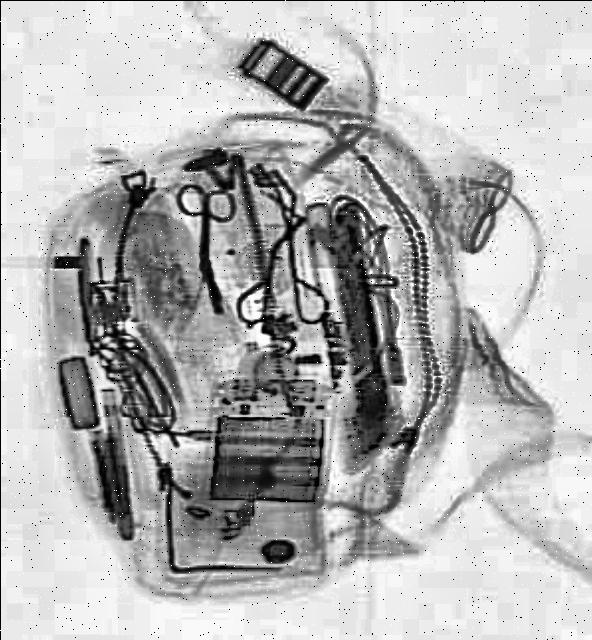Scissors: (177, 179, 237, 267)
